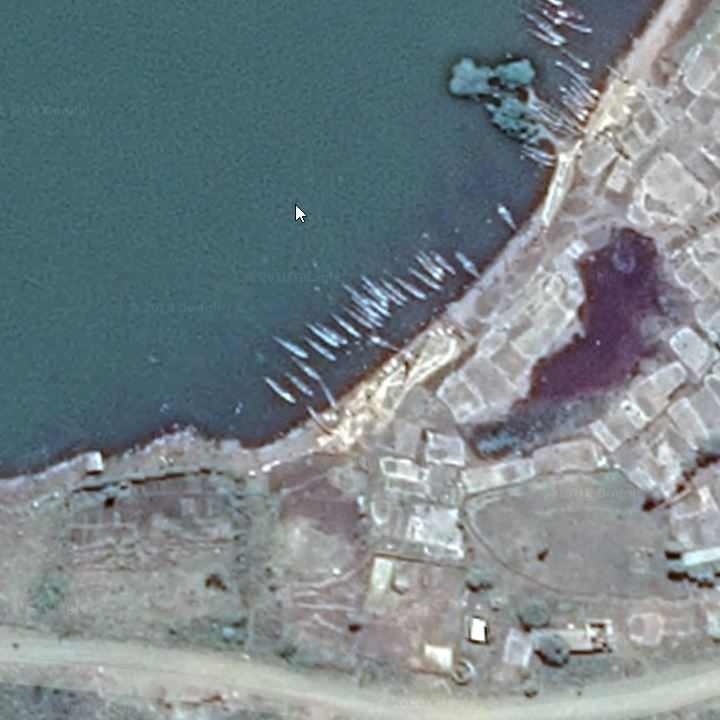boat: (523, 13, 568, 46), (258, 374, 300, 408), (449, 242, 484, 282), (301, 402, 336, 439), (366, 278, 407, 309), (347, 294, 389, 324), (355, 279, 392, 313), (268, 334, 311, 363), (408, 252, 445, 285), (338, 278, 376, 310), (301, 335, 342, 364), (415, 249, 452, 281), (537, 1, 586, 25), (360, 271, 392, 307), (516, 138, 560, 164), (342, 304, 380, 334), (350, 304, 389, 333), (301, 322, 340, 351), (570, 76, 604, 109), (313, 319, 350, 349), (560, 91, 593, 124), (557, 82, 592, 113), (391, 273, 428, 302), (549, 59, 593, 83), (287, 354, 324, 382), (570, 70, 604, 100), (378, 277, 414, 305), (408, 268, 444, 294), (526, 27, 563, 52), (560, 47, 593, 75), (315, 376, 342, 410), (429, 250, 461, 278), (561, 14, 598, 38), (494, 200, 520, 234), (284, 373, 316, 400), (331, 315, 364, 341), (362, 295, 397, 319), (369, 332, 405, 355), (601, 61, 636, 84), (567, 82, 594, 109), (516, 151, 556, 169), (533, 6, 563, 28)
